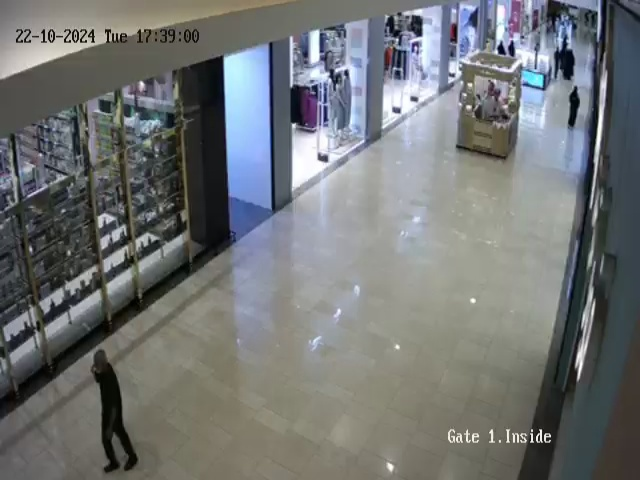employee: (473, 79, 521, 122)
female: (492, 31, 532, 63), (567, 85, 580, 129), (563, 48, 577, 81)
male: (90, 349, 139, 474), (549, 45, 561, 79)
other: (325, 65, 362, 145)
